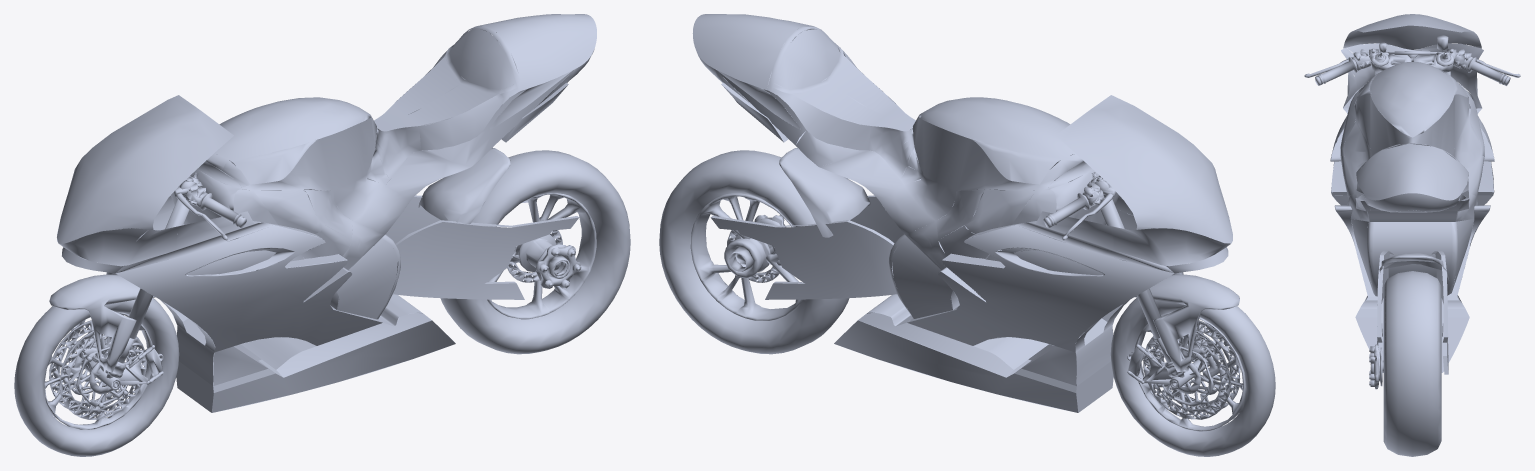
File: bikee.glb
3 views of the same model, side by side, from view 1: azimuth 30°, elevation 25°; view 2: azimuth 150°, elevation 25°; view 3: azimuth 270°, elevation 25° (orthographic). The views are drawn at different scales.
Visible parts, largest first — view 1: Obj_fromNurbs; view 2: Obj_fromNurbs; view 3: Obj_fromNurbs.
Part boxes in pixels (x1,y1,x2,y2): Obj_fromNurbs: (14, 14, 630, 456); Obj_fromNurbs: (659, 14, 1275, 456); Obj_fromNurbs: (1304, 14, 1520, 456).
Bounding box in the file's own units: 0.1505 × 0.0778 × 0.0527.
